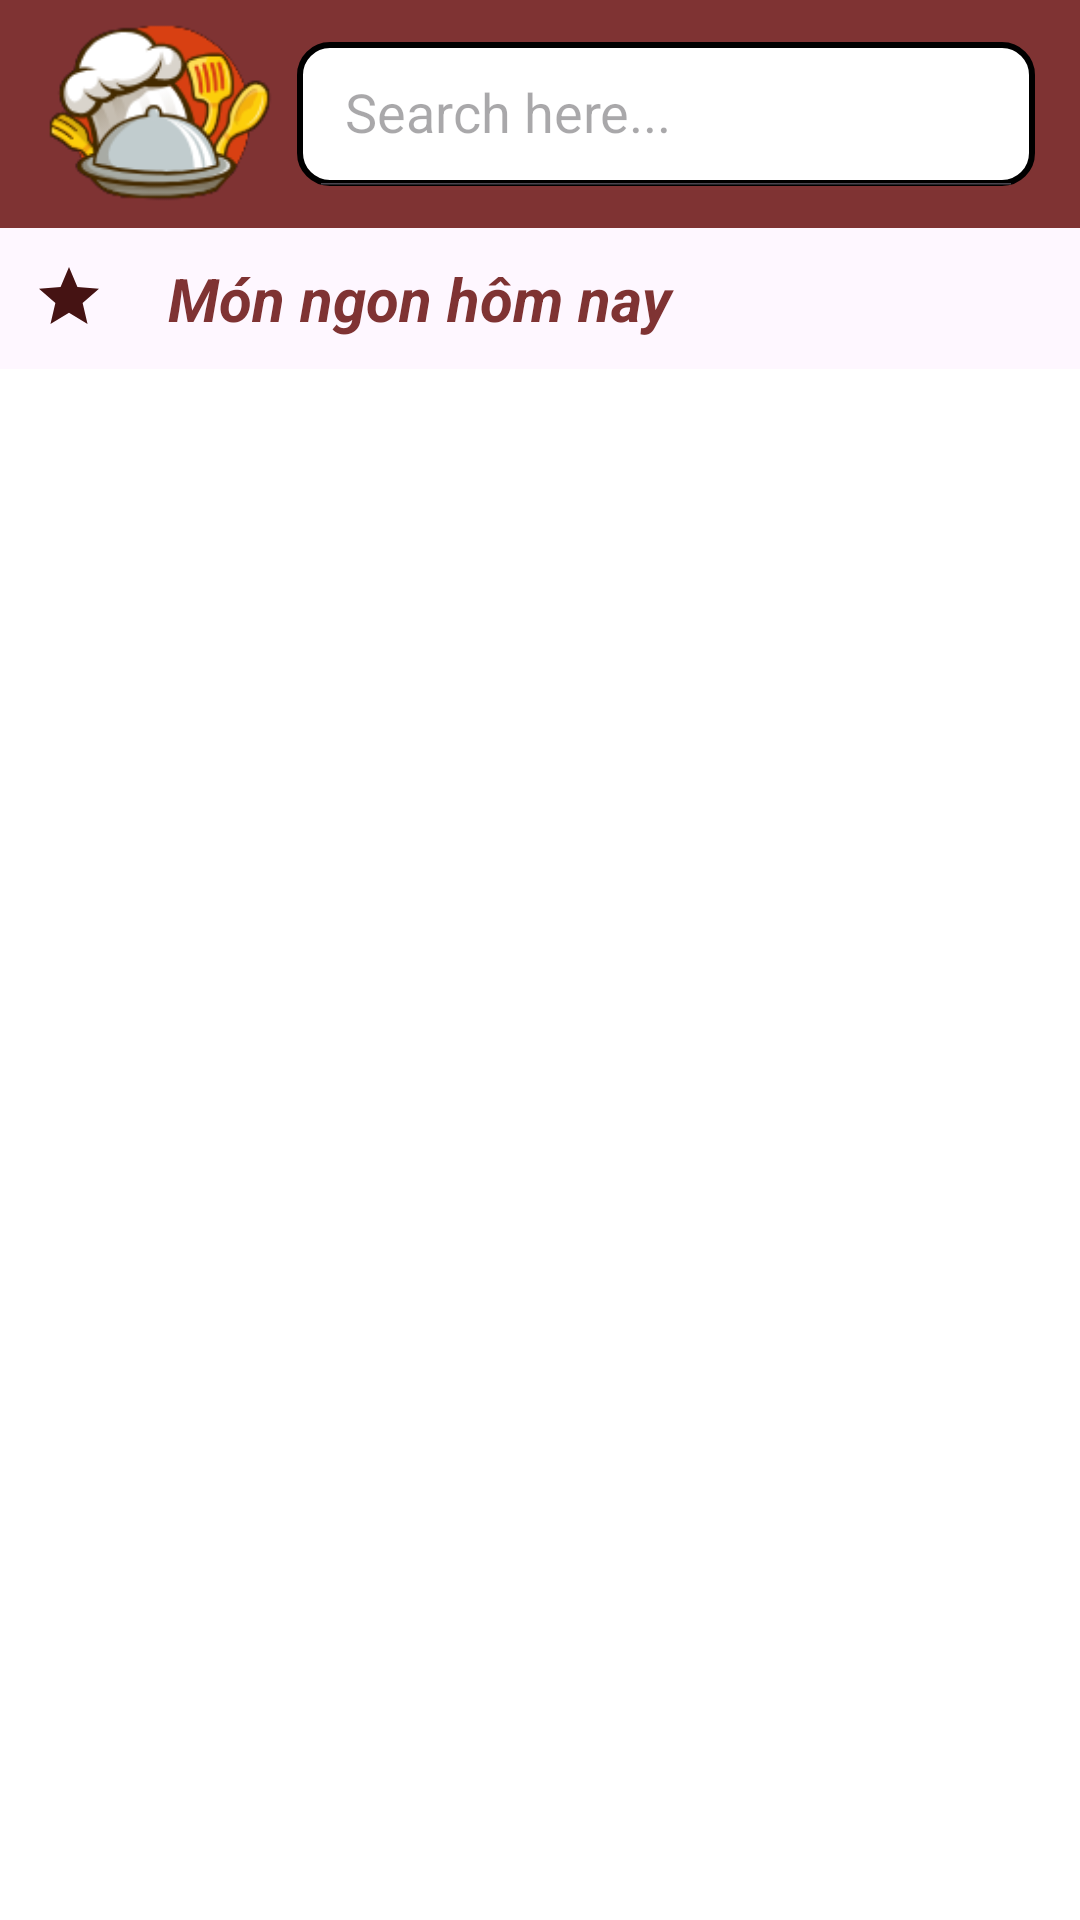

Icons on this 1080×1920 Android screen, each with the point to tap as [x,y]:
star: [69,295]
